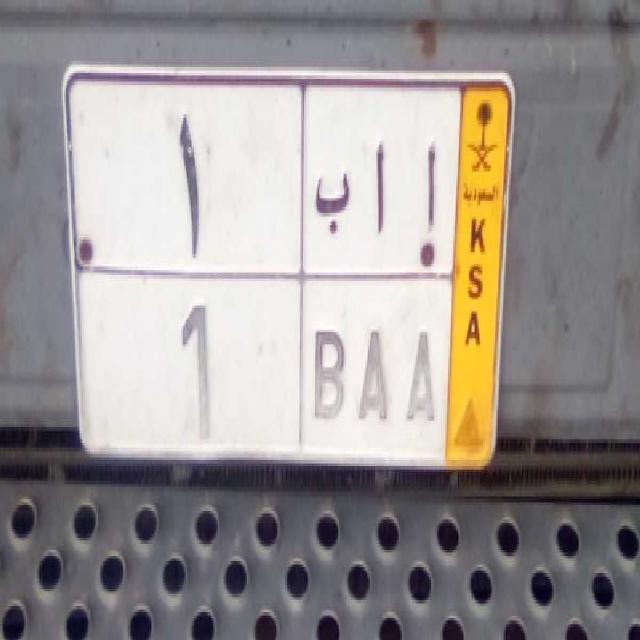license_plate: (76, 266, 447, 464)
